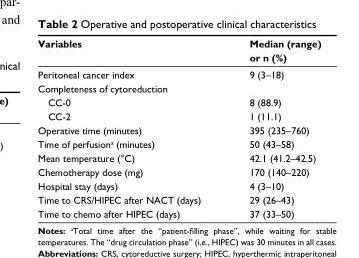table: (37, 37, 320, 219)
table column: (37, 37, 224, 219), (224, 37, 320, 219)
table column header: (37, 37, 320, 65)
table projected row header: (37, 80, 320, 94)
table row: (37, 37, 320, 65), (37, 65, 320, 80), (37, 80, 320, 94), (37, 94, 320, 108), (37, 108, 320, 122), (37, 122, 320, 136), (37, 136, 320, 150), (37, 150, 320, 164), (37, 164, 320, 178), (37, 178, 320, 192), (37, 192, 320, 206), (37, 206, 320, 219)
